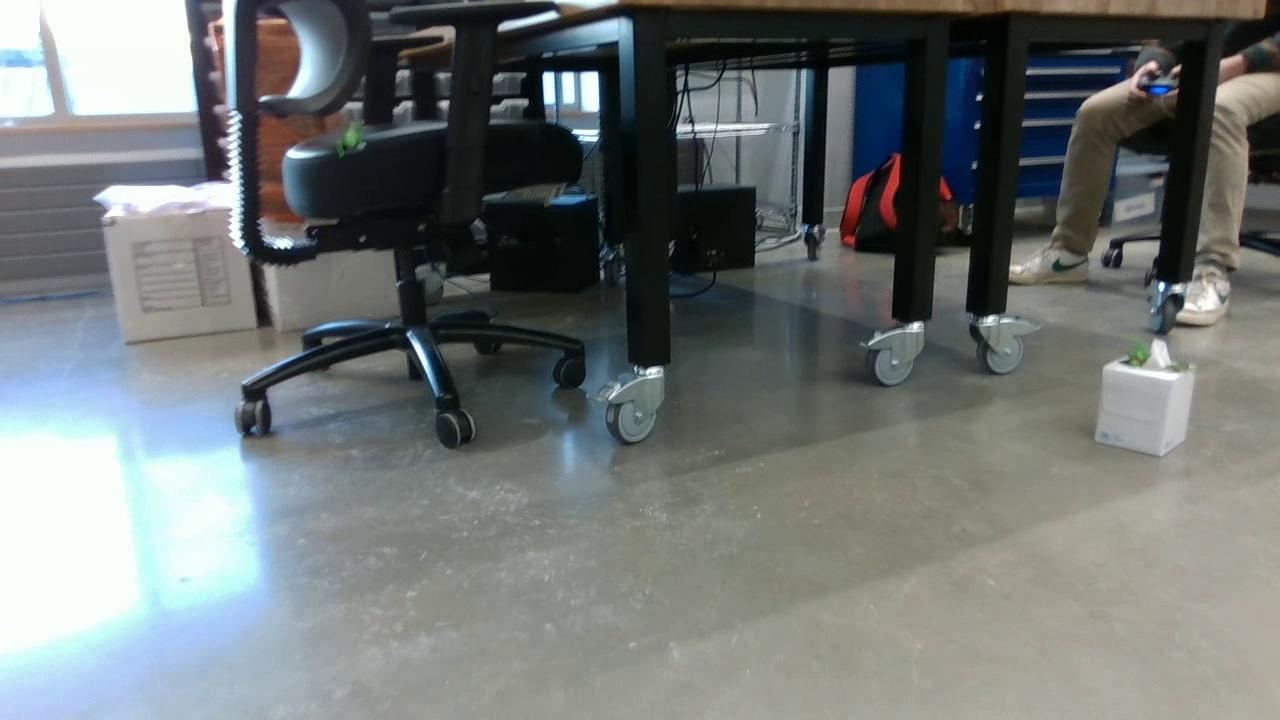grasshopper: (337, 124, 368, 158)
